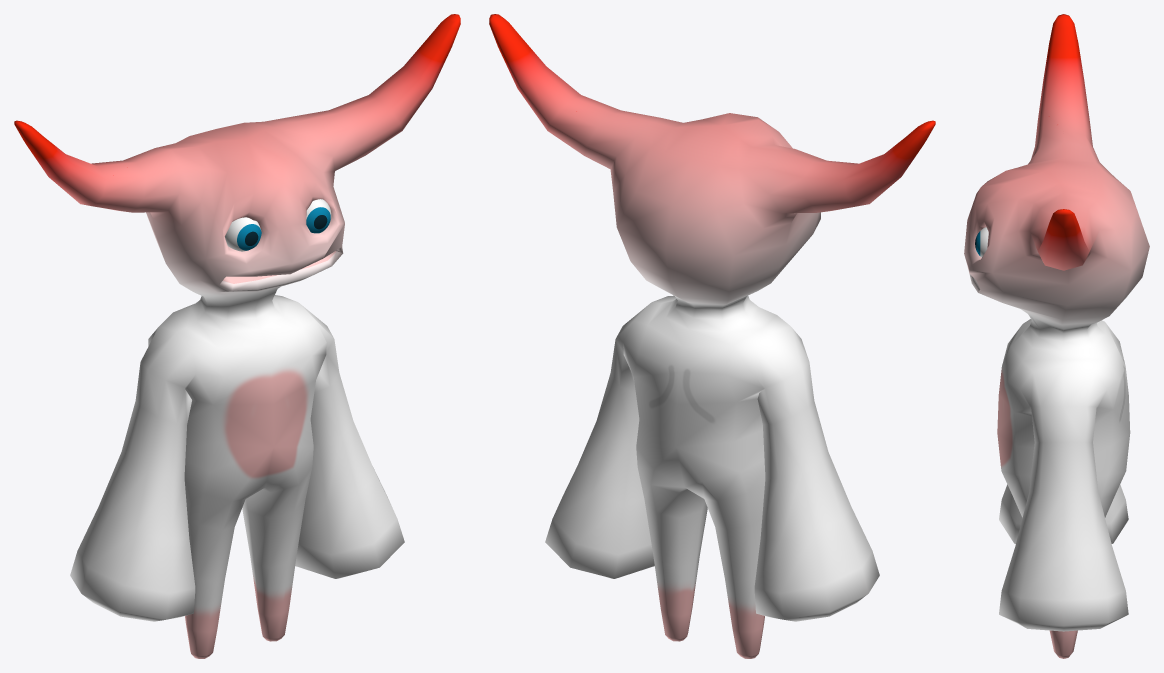
File: frame49.obj
3 renders of one model, left to right at view 1: azimuth 30°, elevation 25°; view 2: azimuth 150°, elevation 25°; view 3: azimuth 270°, elevation 25°, orthographic. The views are drawn at different scales.
Parts seen in each view (by area): view 1: Body, Right_Eye, Left_Eye; view 2: Body; view 3: Body, Left_Eye.
Boxes of the visible parts, x1,y1,x2,y2 form: Body: (14,14,460,658); Right_Eye: (225,217,261,251); Left_Eye: (306,199,331,233); Body: (489,14,935,658); Body: (964,14,1149,658); Left_Eye: (975,227,988,257).
Size of the model in its own units: 14.13 by 17.68 by 5.63.
